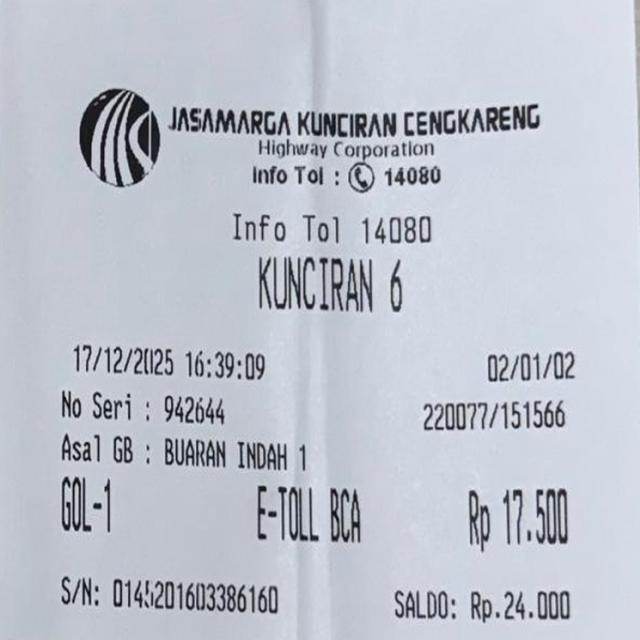date: (69, 340, 292, 386)
store: (159, 96, 555, 136)
total: (457, 481, 573, 553)
